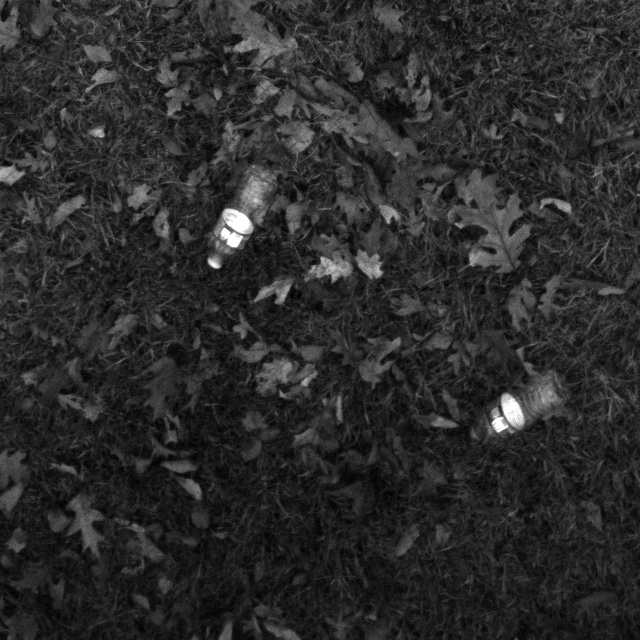bottle: (190, 154, 288, 285), (453, 365, 584, 450)
